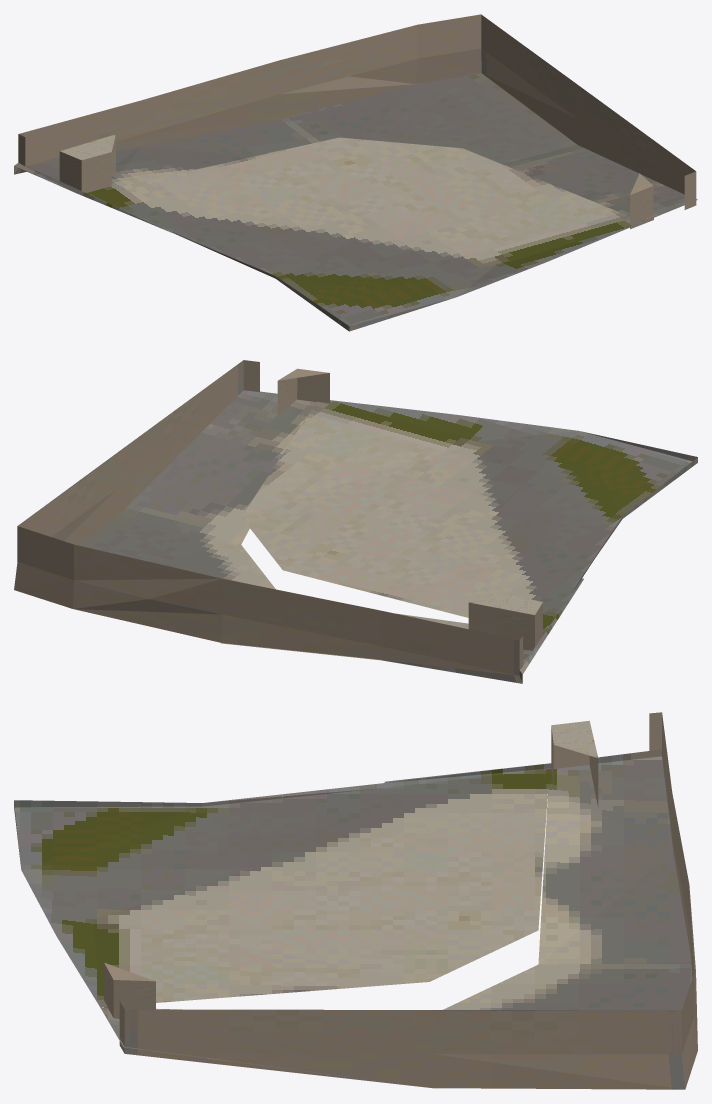
File: lodtwintjail2_lan.obj
3 views of the same model, one above another, from view 1: azimuth 30°, elevation 25°; view 2: azimuth 150°, elevation 25°; view 3: azimuth 270°, elevation 25° (orthographic). The views are drawn at different scales.
Parts seen in each view (by area): view 1: LODtwintjail2_LAn; view 2: LODtwintjail2_LAn; view 3: LODtwintjail2_LAn.
Part boxes in pixels (x1=…): LODtwintjail2_LAn: x1=14, y1=14, x2=697, y2=331; LODtwintjail2_LAn: x1=14, y1=360, x2=697, y2=683; LODtwintjail2_LAn: x1=14, y1=712, x2=697, y2=1089.
Size of the model in its own units: 75.71 by 9.35 by 72.77.
1 material, 1 textured.
